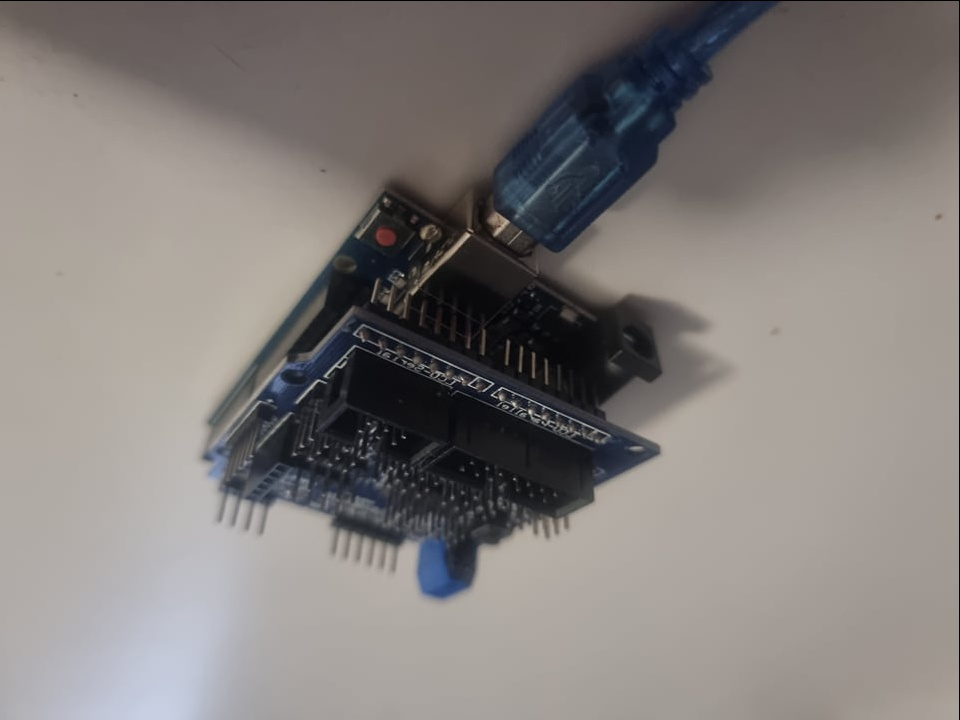5V EXPANSION: (202, 372, 665, 605)
UNO R3: (341, 190, 678, 394)
